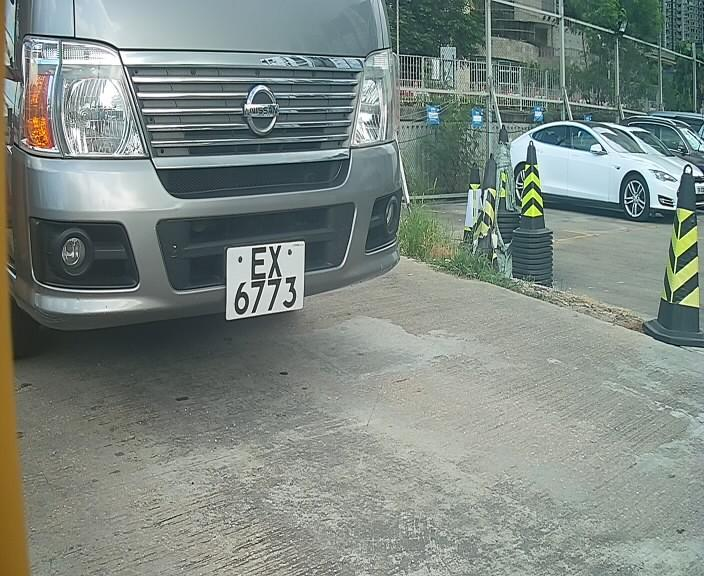License Plate: (217, 237, 309, 322)
